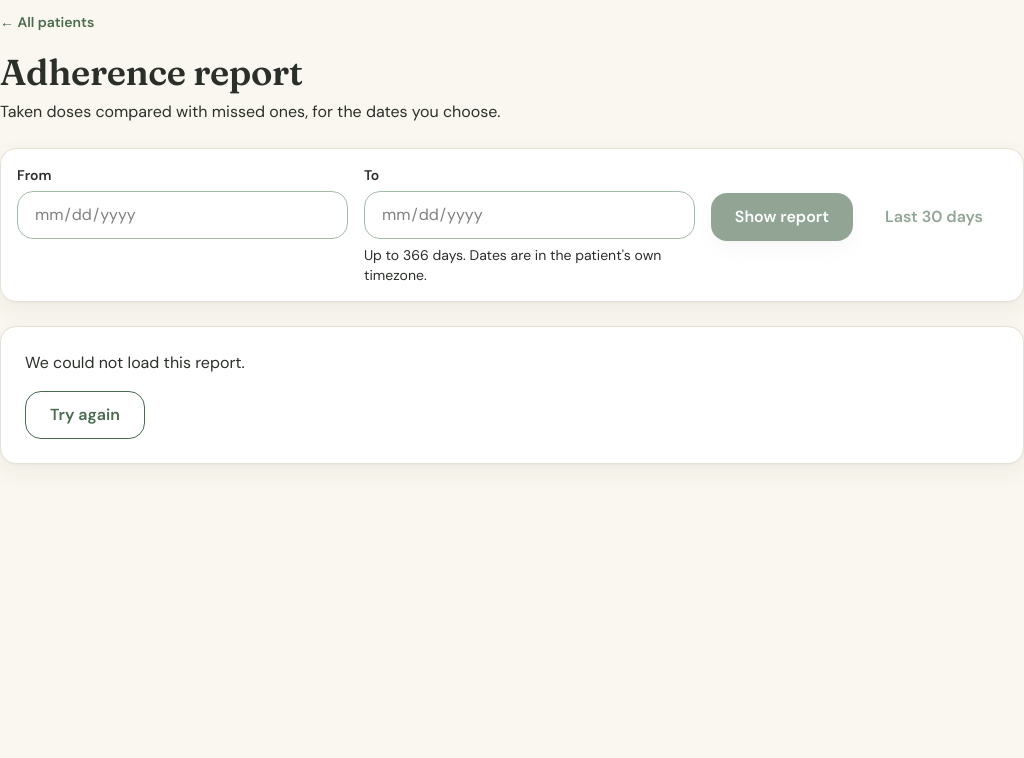
Test: ReportPage: no access (404) and other failures › offers Try again for a server failure
Expected: the text "We could not load this report." is shown, [25,352,245,373]
Click the button "Try again".
click(85, 415)  # box [25,391,145,439]
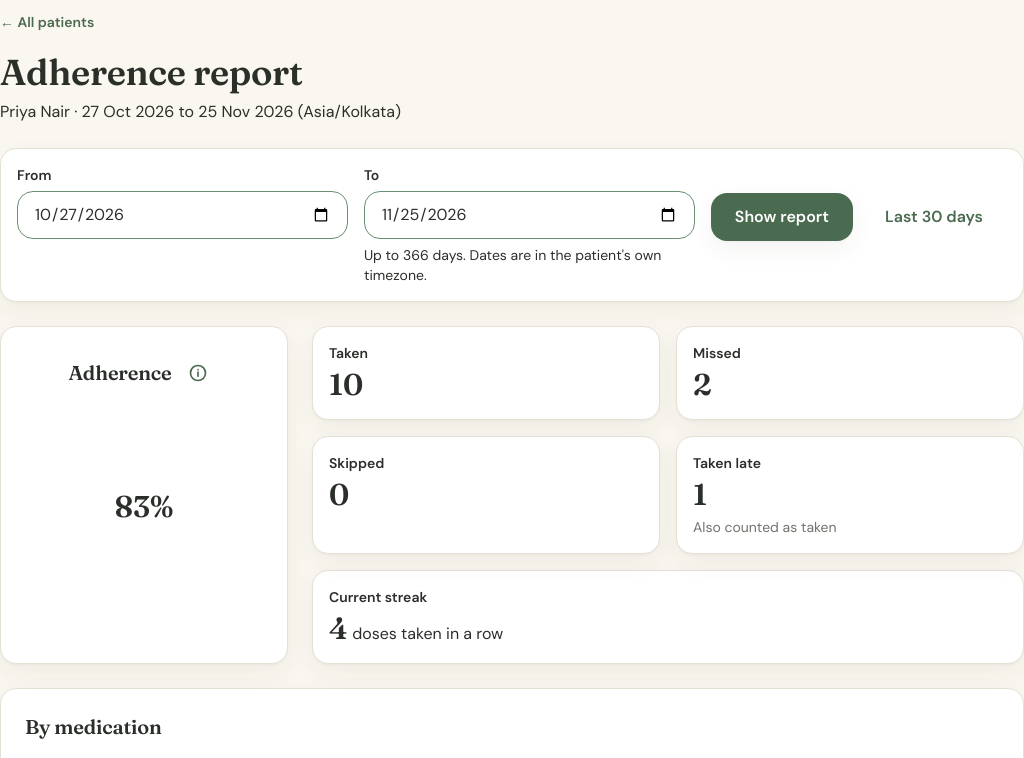
Expected: the picture named "Adherence 83 percent" is shown, [40,403,248,611]
